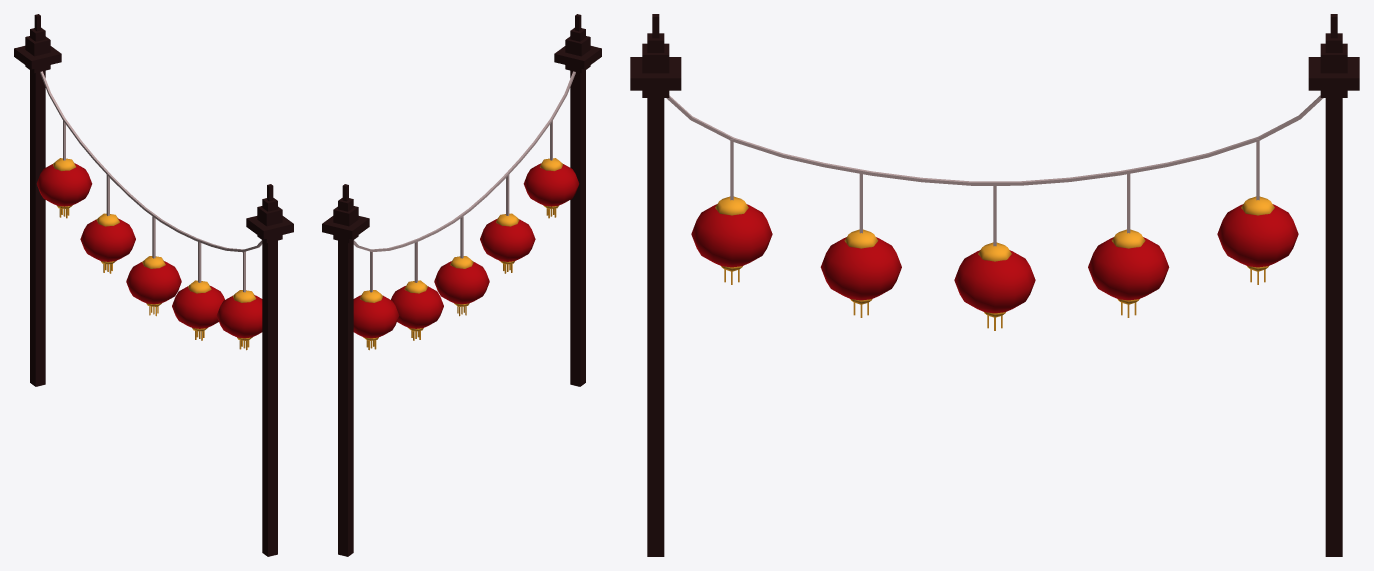
The model's file is lanterns.fbx.
3 renders of one model, left to right at view 1: azimuth 30°, elevation 25°; view 2: azimuth 150°, elevation 25°; view 3: azimuth 270°, elevation 25°, orthographic. The views are drawn at different scales.
Parts seen in each view (by area): view 1: Box002, Box001, Sphere004, Sphere001, Sphere002, Sphere005, Sphere003, Box003; view 2: Box001, Box002, Sphere005, Sphere001, Sphere003, Sphere004, Sphere002, Box003; view 3: Box001, Box002, Sphere001, Sphere004, Sphere005, Sphere002, Sphere003, Box003.
Part boxes in pixels (x1,y1,x2,y2): Box002: [246, 184, 293, 556]; Box001: [14, 14, 61, 386]; Sphere004: [80, 218, 135, 261]; Sphere001: [126, 261, 181, 304]; Sphere002: [36, 163, 92, 206]; Sphere005: [172, 286, 224, 328]; Sphere003: [216, 295, 262, 338]; Box003: [40, 71, 262, 252]; Box001: [322, 184, 369, 556]; Box002: [554, 14, 601, 386]; Sphere005: [480, 218, 535, 261]; Sphere001: [434, 261, 489, 304]; Sphere003: [523, 163, 579, 206]; Sphere004: [391, 286, 443, 328]; Sphere002: [353, 295, 399, 338]; Box003: [353, 71, 575, 252]; Box001: [1308, 14, 1359, 556]; Box002: [630, 14, 681, 556]; Sphere001: [954, 250, 1035, 313]; Sphere004: [1088, 237, 1169, 300]; Sphere005: [820, 237, 901, 300]; Sphere002: [1217, 204, 1298, 267]; Sphere003: [691, 204, 772, 267]; Box003: [666, 95, 1323, 185].
Size of the model in its own units: 24.25 by 175 by 215.
